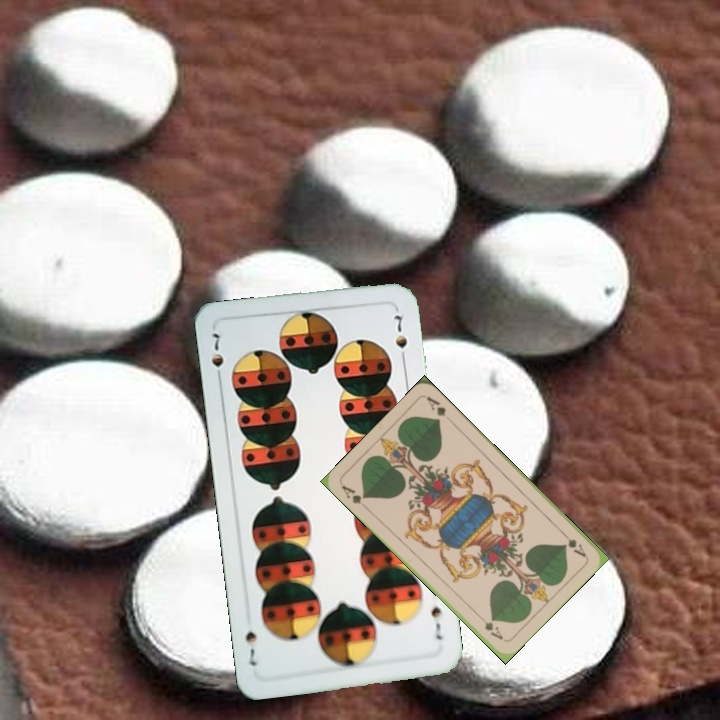GA: (557, 527, 589, 560), (337, 481, 371, 512)
S7: (207, 329, 227, 386), (427, 602, 445, 643)
